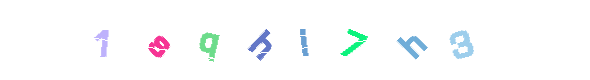1: (93, 0, 173, 80)
3: (399, 0, 479, 80)
7: (314, 0, 394, 80)
H: (221, 0, 301, 80), (327, 0, 407, 80)
I: (255, 0, 335, 80)
Q: (177, 0, 257, 80)
S: (119, 0, 199, 80)
